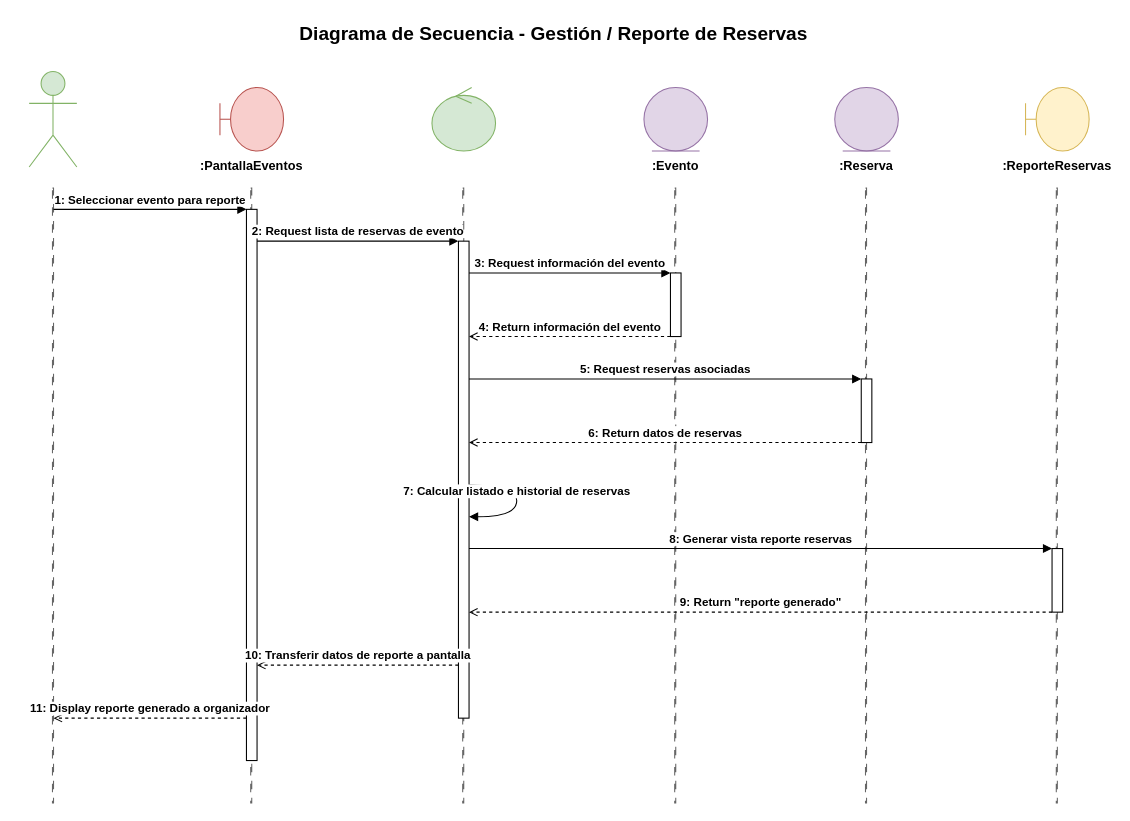
Some shapes in this 1130 by 821 pixel diagram are drawn without their labels. Each missing label, with the centre of its shape:
":GestionReserva" goes at pixel 463 118.
"Organizador" goes at pixel 52 118.
